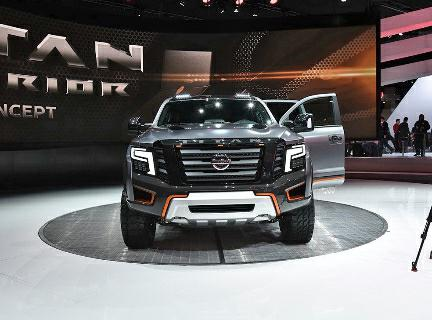日产-Titan: (115, 89, 321, 254)
